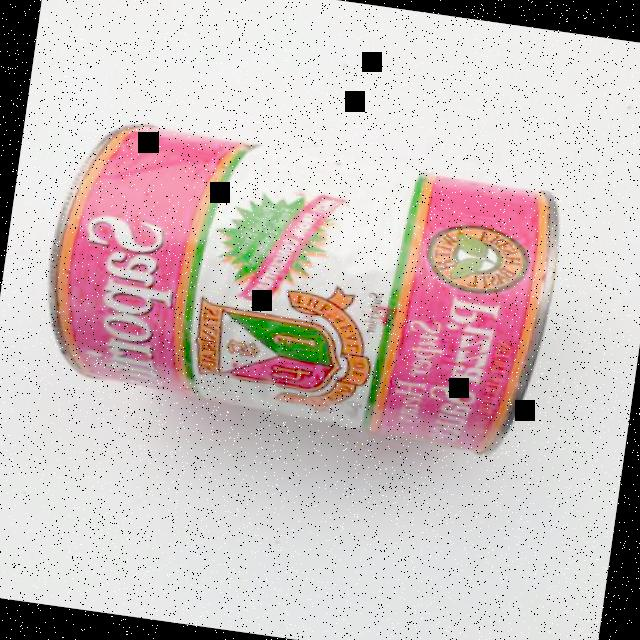can: (23, 103, 578, 467)
